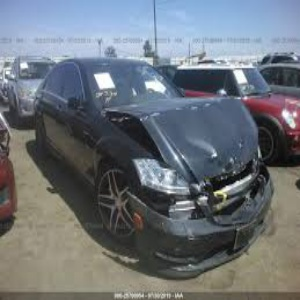bonnet: (138, 97, 264, 160)
bumper: (126, 192, 218, 282)
